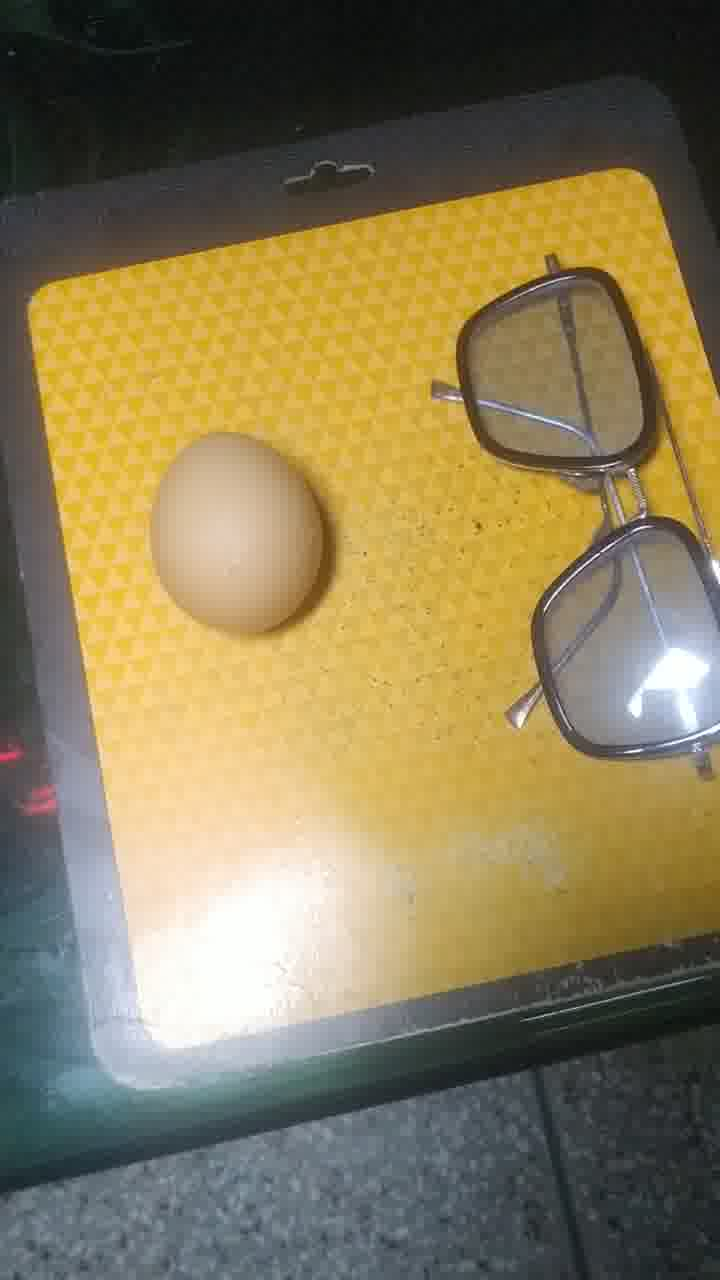egg: (146, 427, 340, 647)
sunglass: (417, 250, 720, 783)
